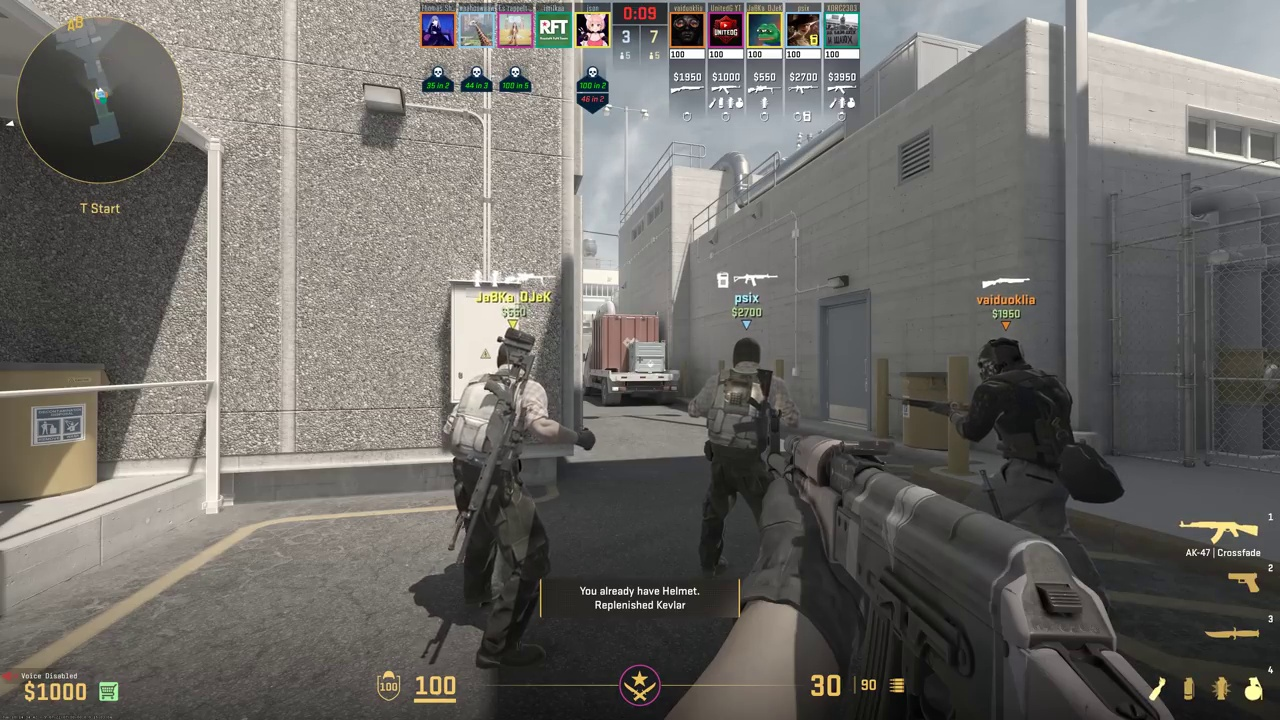Terrorist: (453, 338, 569, 670), (691, 336, 802, 580), (960, 338, 1073, 548)
